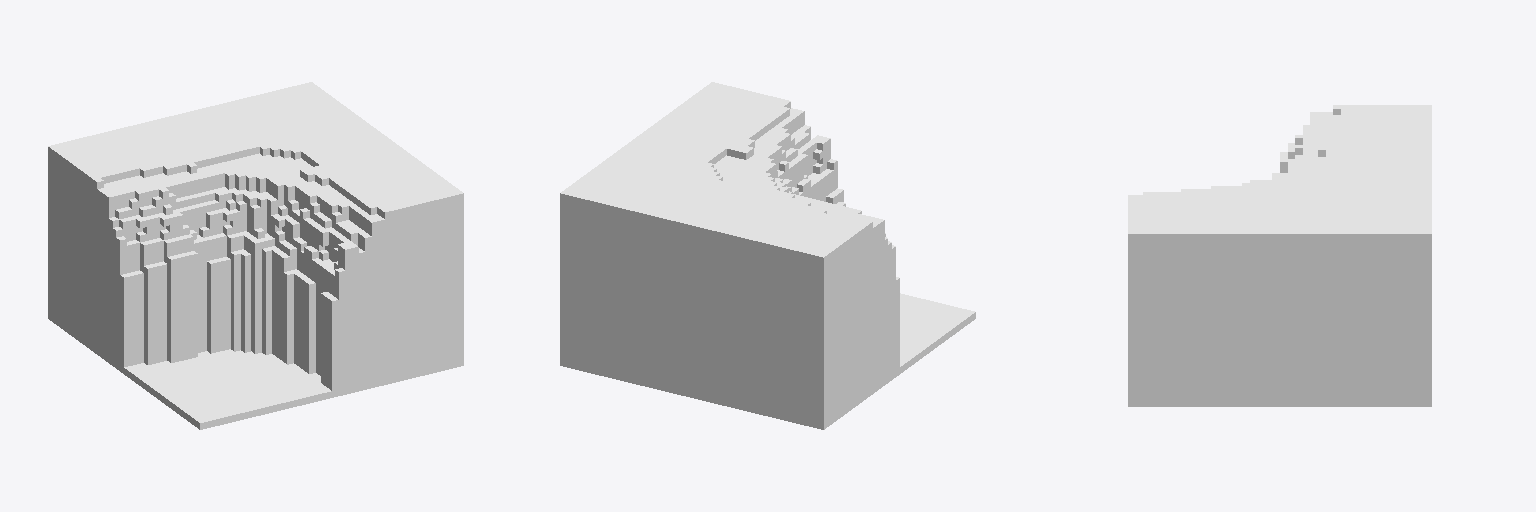
The model's file is tile-cornermountain-3.obj.
3 renders of one model, left to right at view 1: azimuth 30°, elevation 25°; view 2: azimuth 150°, elevation 25°; view 3: azimuth 270°, elevation 25°, orthographic.
Visible parts, largest first — view 1: tile-cornermountain-3; view 2: tile-cornermountain-3; view 3: tile-cornermountain-3.
Boxes of the visible parts, x1,y1,x2,y2 form: tile-cornermountain-3: [48, 82, 463, 429]; tile-cornermountain-3: [560, 82, 975, 429]; tile-cornermountain-3: [1128, 105, 1431, 406].
Size of the model in its own units: 40 by 25 by 40.